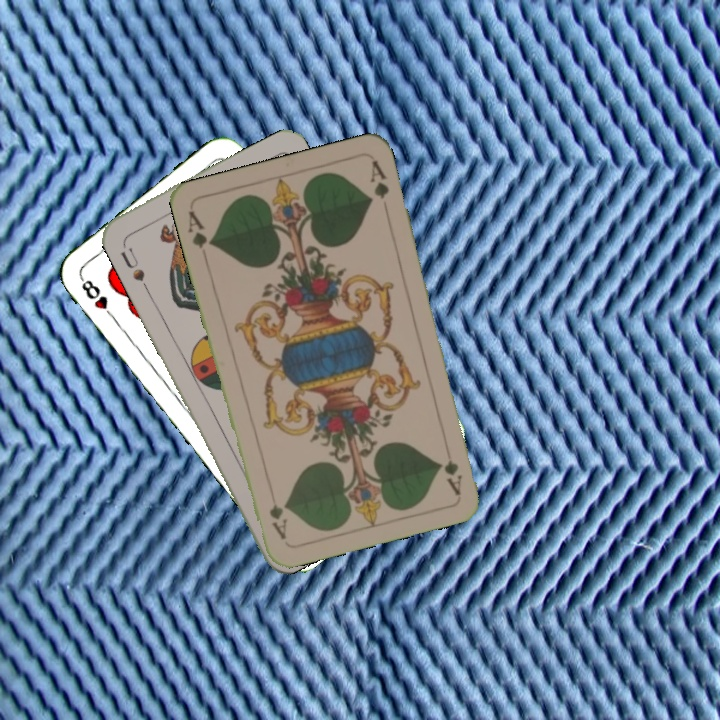GA: (184, 206, 217, 251), (440, 439, 465, 497)
H8: (76, 273, 119, 323)
SU: (116, 243, 148, 284)
